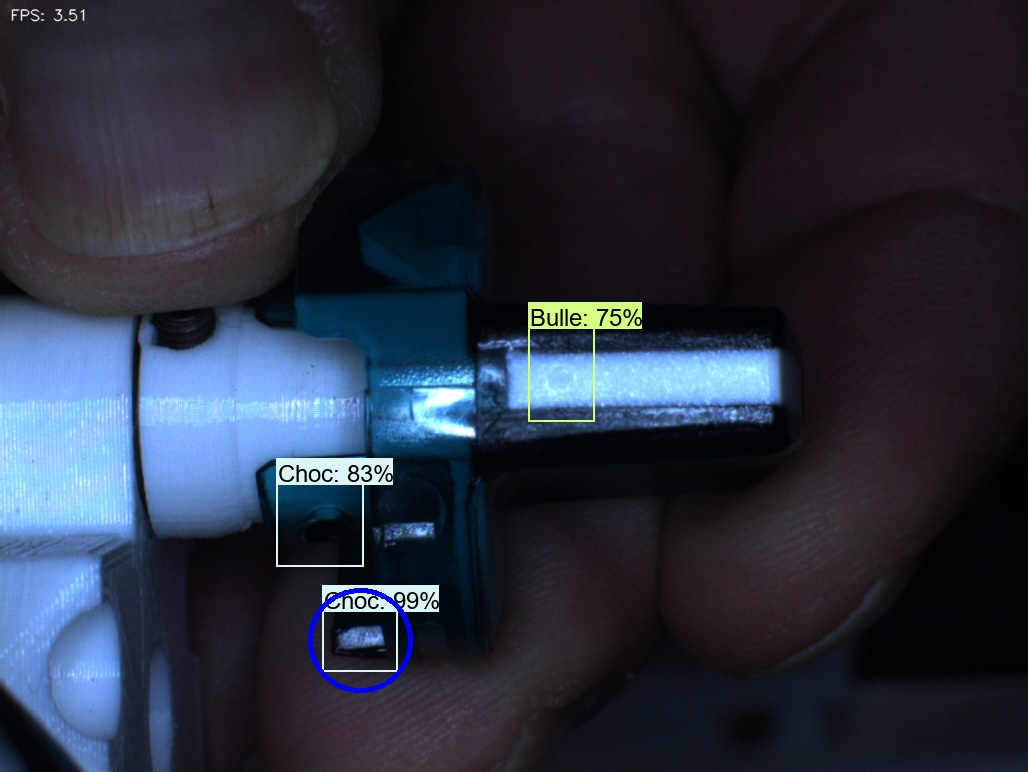DentOk: (333, 192, 405, 294)
